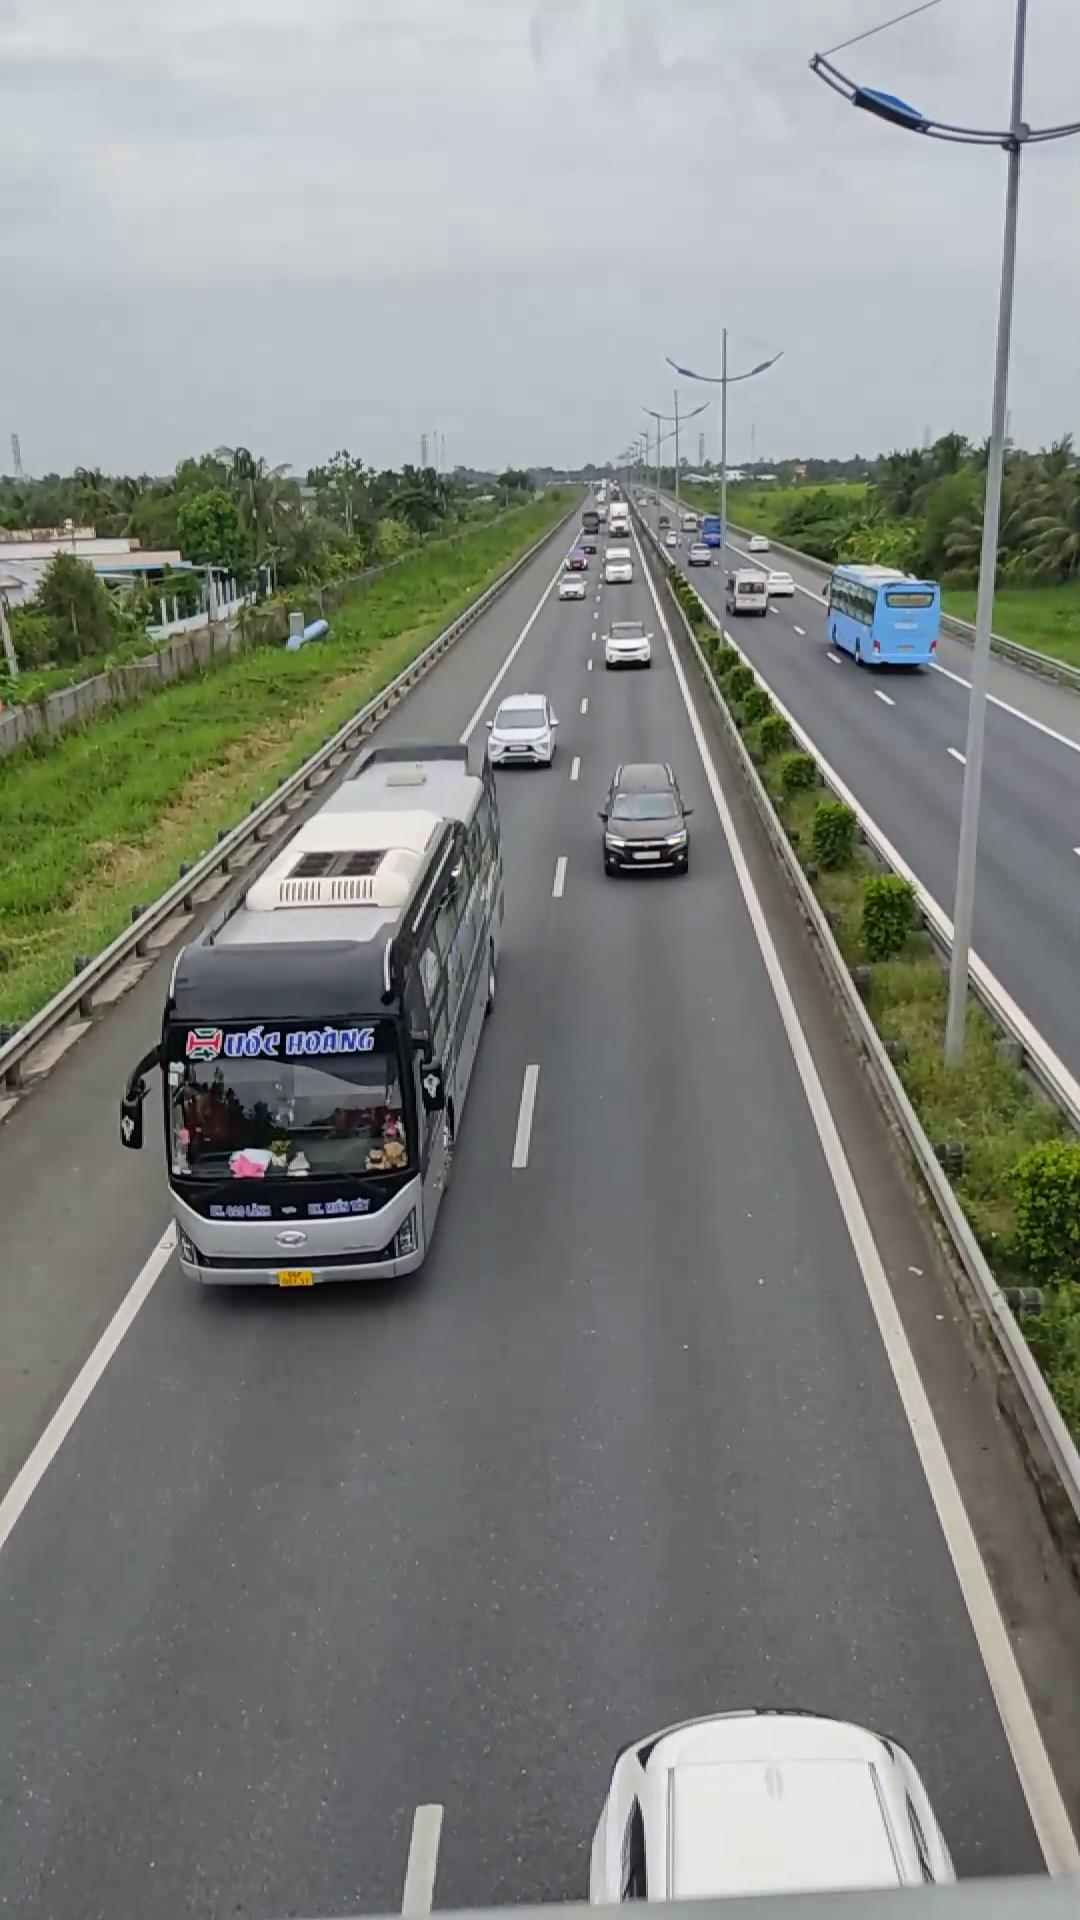bus: (144, 737, 504, 1287), (825, 558, 942, 667)
car: (596, 761, 694, 876), (480, 692, 558, 767)
